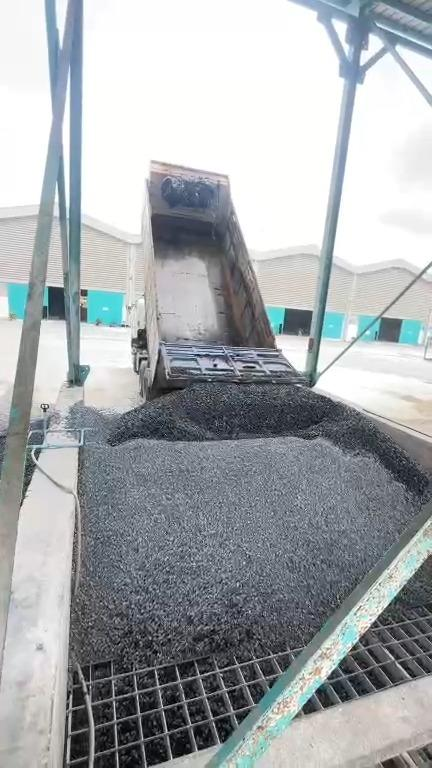gravel: (68, 376, 430, 665), (382, 555, 431, 620), (22, 450, 33, 499), (28, 417, 42, 443), (0, 428, 5, 474), (48, 411, 59, 427)
sand: (402, 396, 431, 433)
